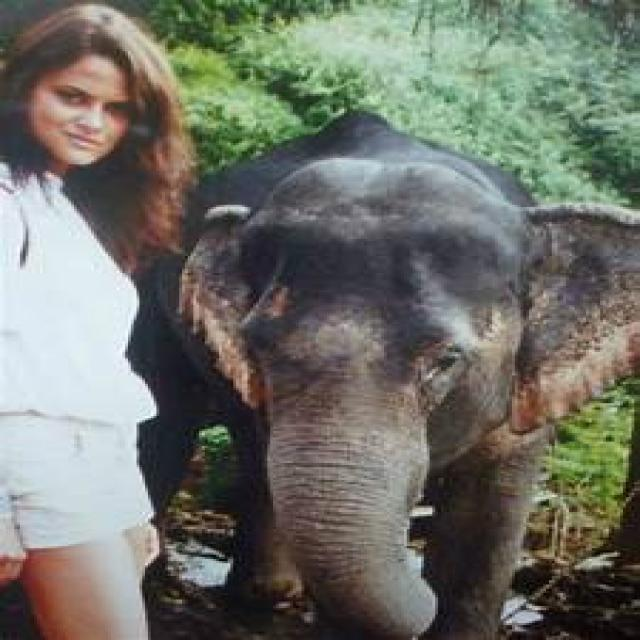elephant: (176, 115, 640, 640)
